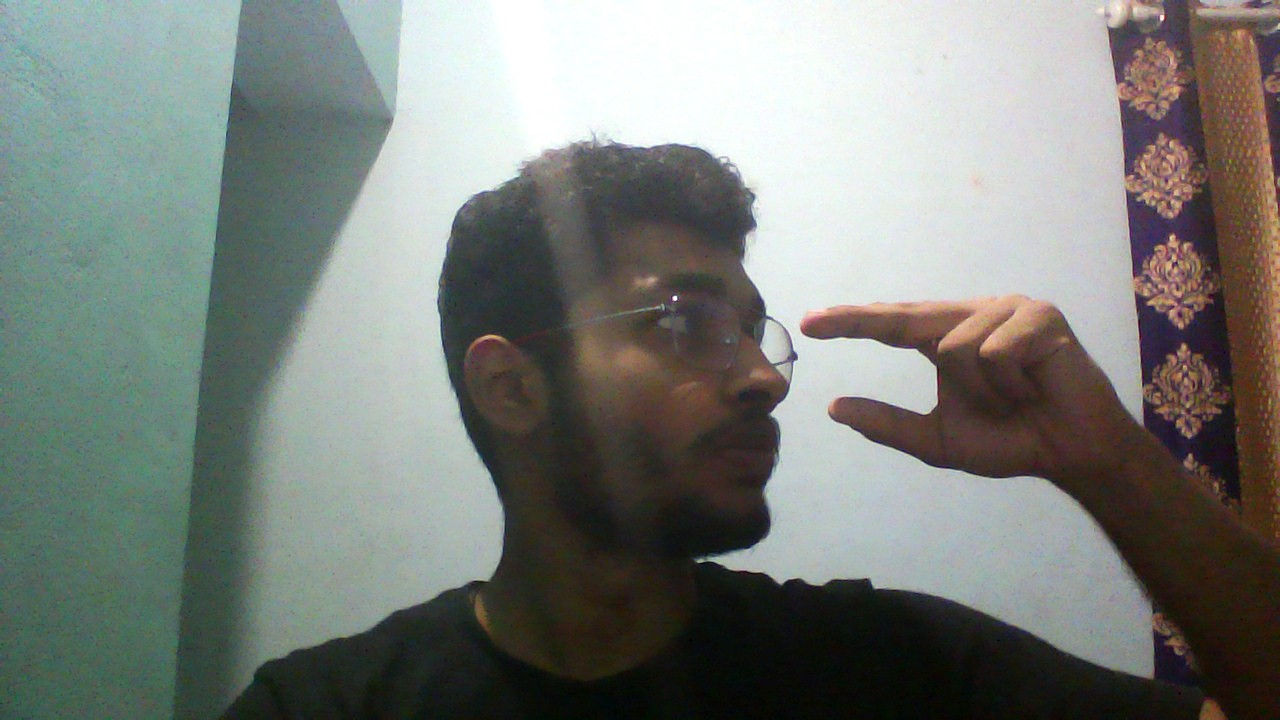No: (795, 288, 1144, 491)
